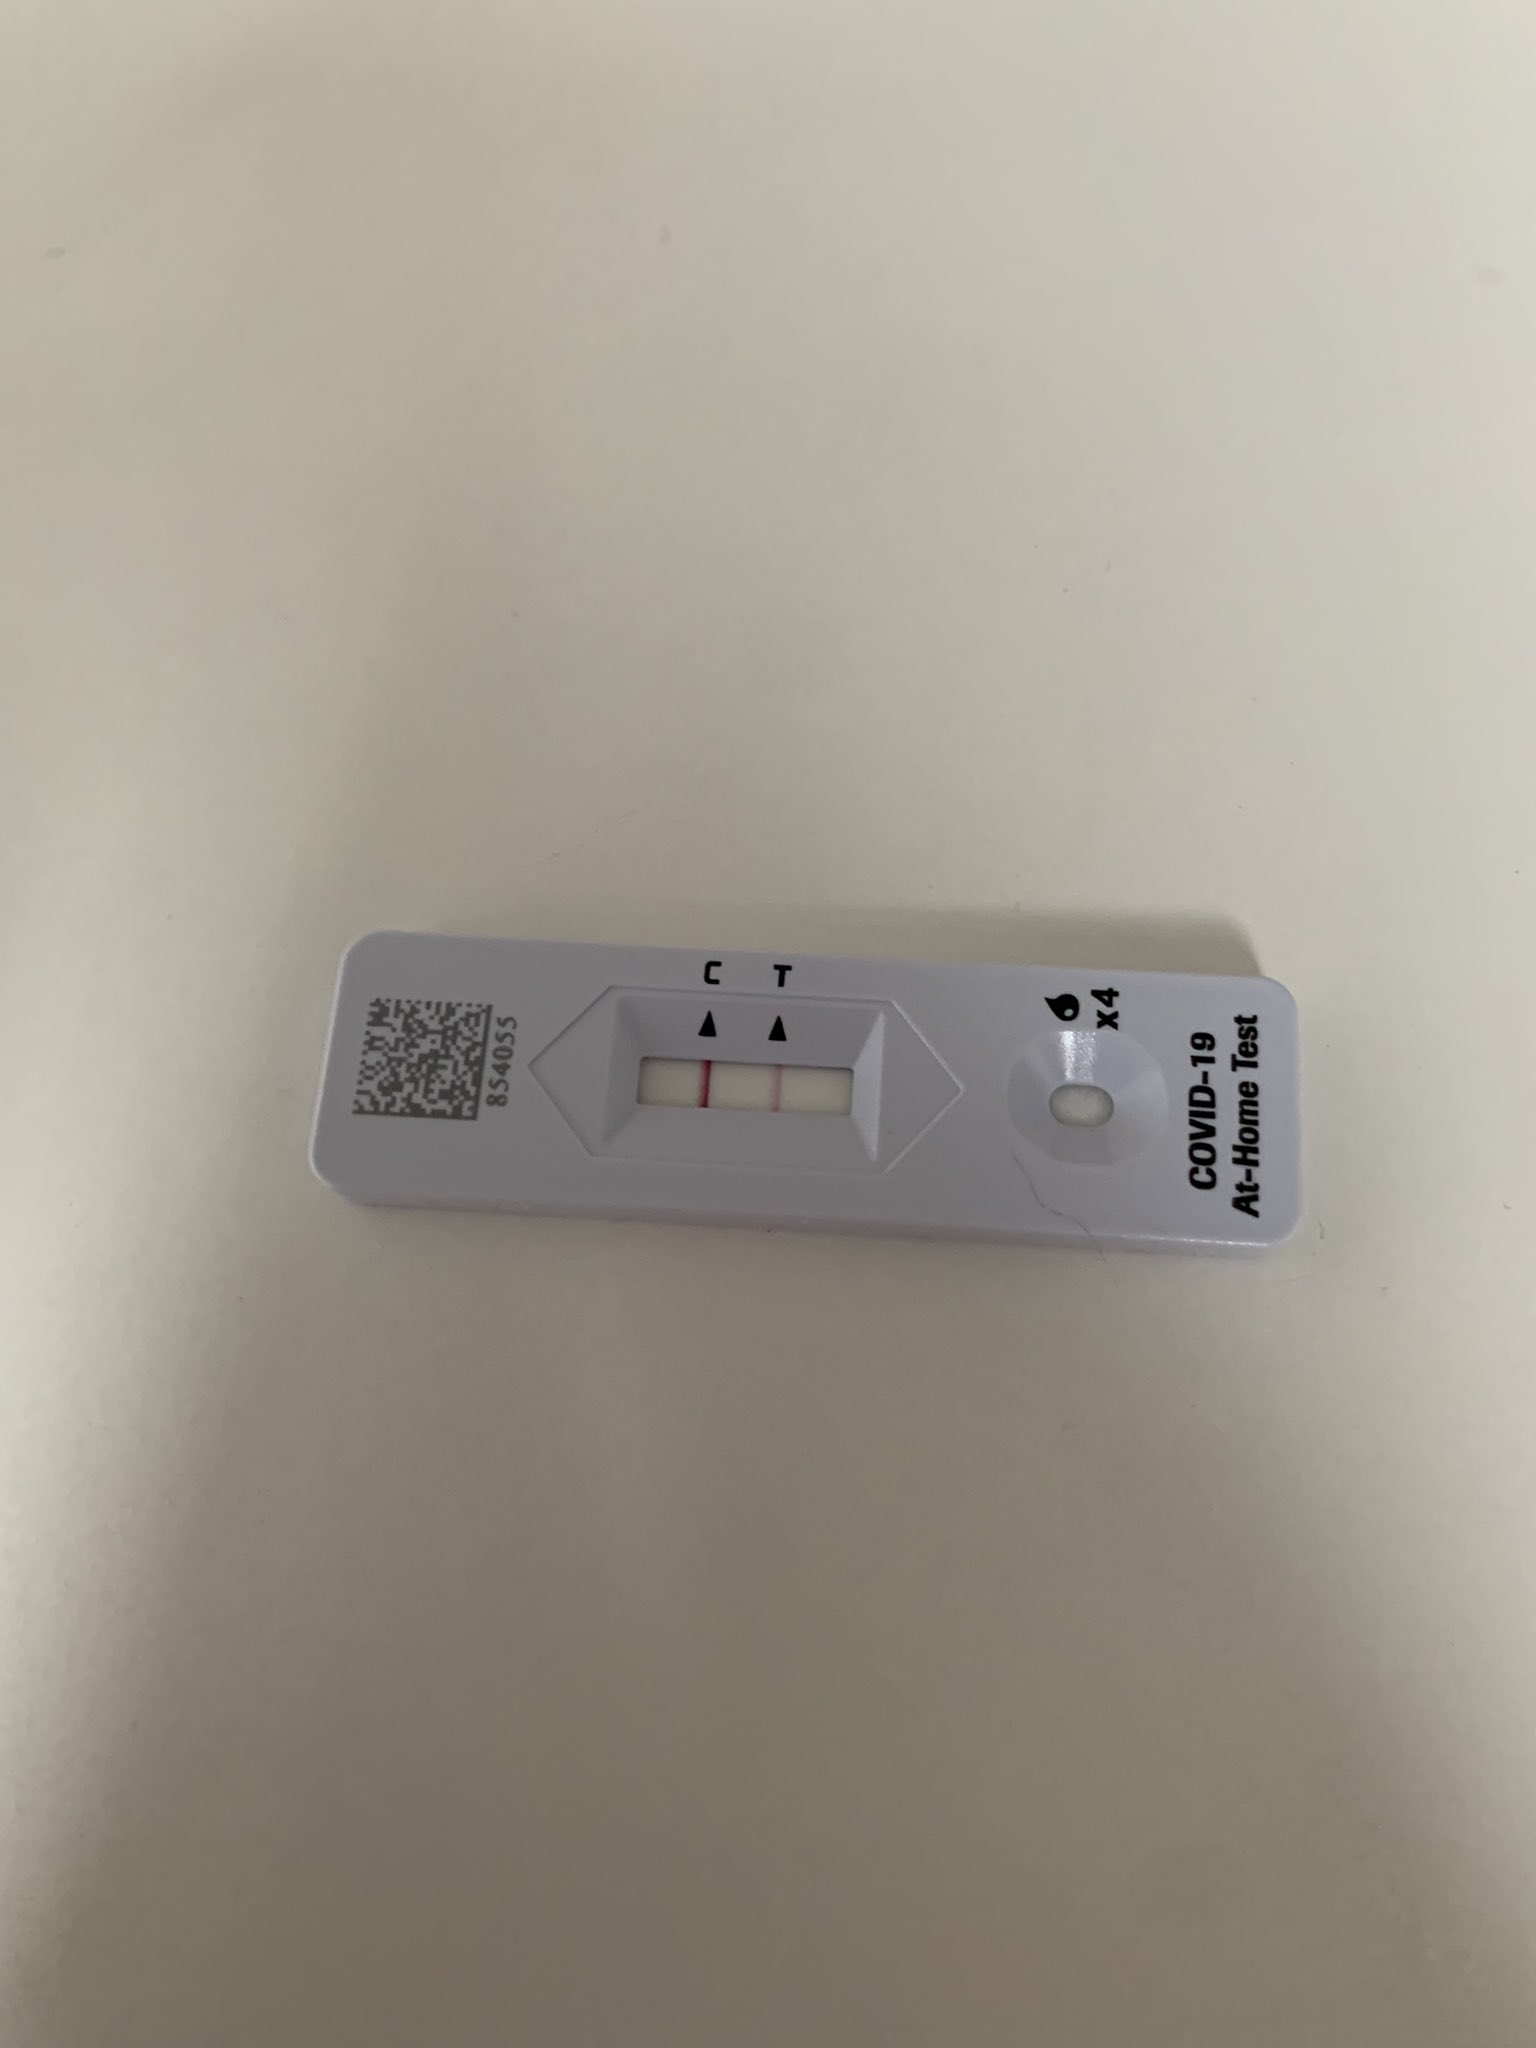positive: (607, 1048, 878, 1138)
